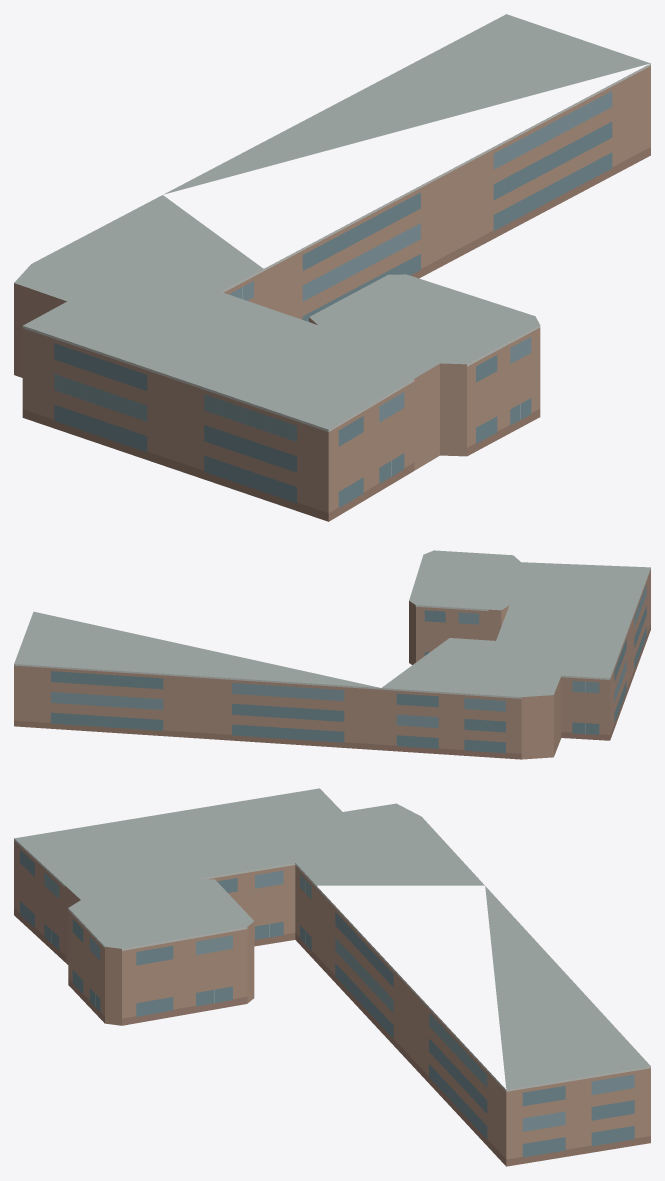
File: survey-upis-32839884.glb
The picture shows the model from 3 angles, top to bottom: view 1: azimuth 30°, elevation 25°; view 2: azimuth 150°, elevation 25°; view 3: azimuth 270°, elevation 25°; orthographic projection. The views are drawn at different scales.
Parts seen in each view (by area): view 1: survey-upis-32839884.tmp; view 2: survey-upis-32839884.tmp; view 3: survey-upis-32839884.tmp.
Boxes of the visible parts, left/top/right/bottom form: survey-upis-32839884.tmp: left=14, top=14, right=650, bottom=521; survey-upis-32839884.tmp: left=14, top=550, right=650, bottom=759; survey-upis-32839884.tmp: left=14, top=788, right=650, bottom=1166.
Bounding box in the file's own units: 76.94 × 9.15 × 68.7.
